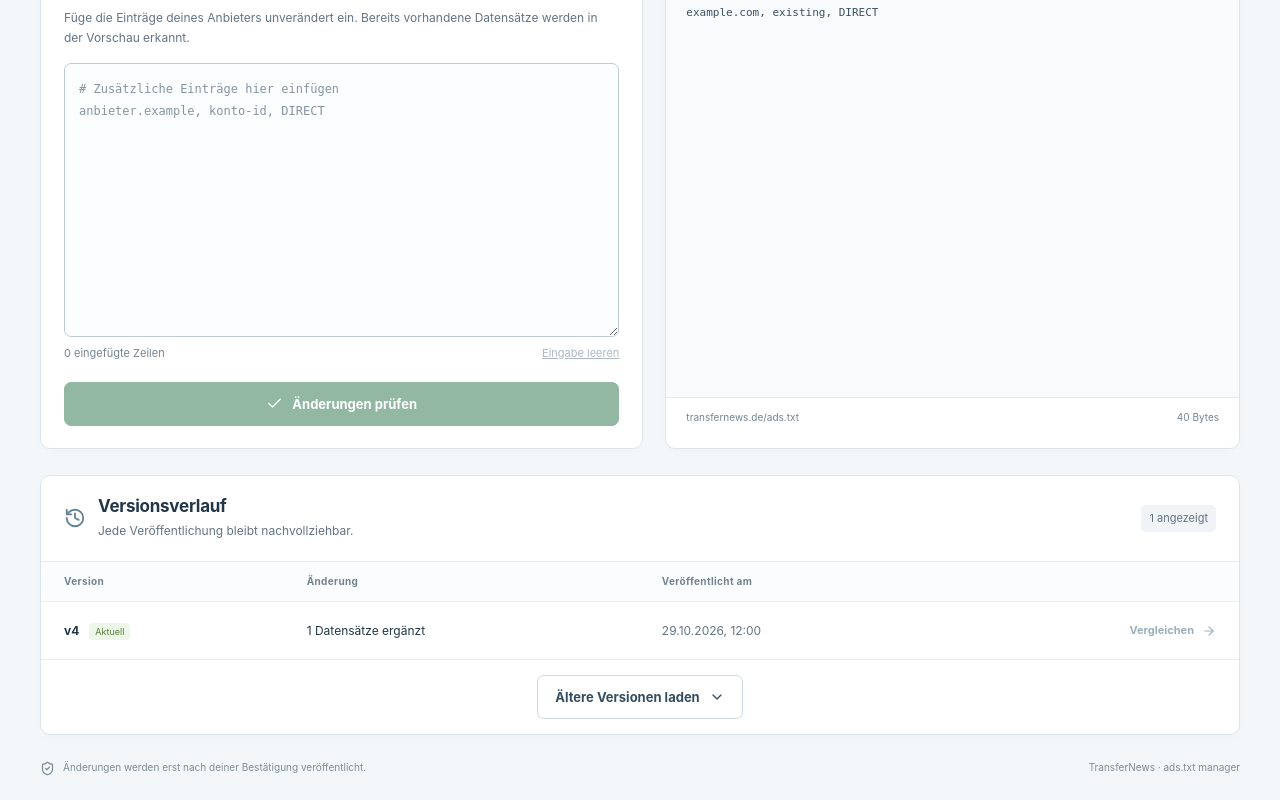
it: older versions remain accessible through the server history cursor
The image size is (1280, 800).
(page scrolled)
What coordinates should you click on to do the following:
click the button "Ältere Versionen laden"
I would click on:
 (640, 697)
Its box is left=537, top=675, right=743, bottom=719.
(page scrolled)
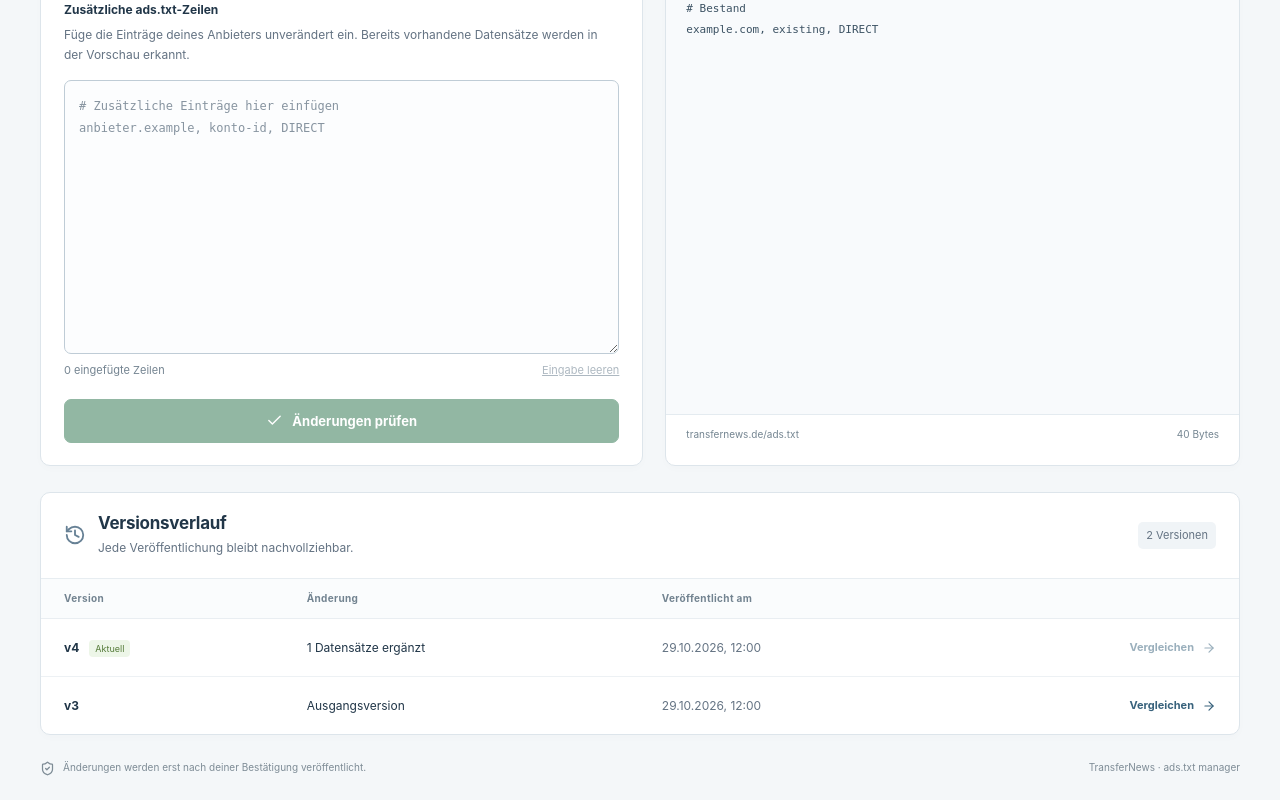
What coordinates should you click on to do the following:
click the button "Vergleichen" in the row of "Ausgangsversion"
I would click on:
 (1173, 706)
Its box is left=1130, top=692, right=1216, bottom=719.
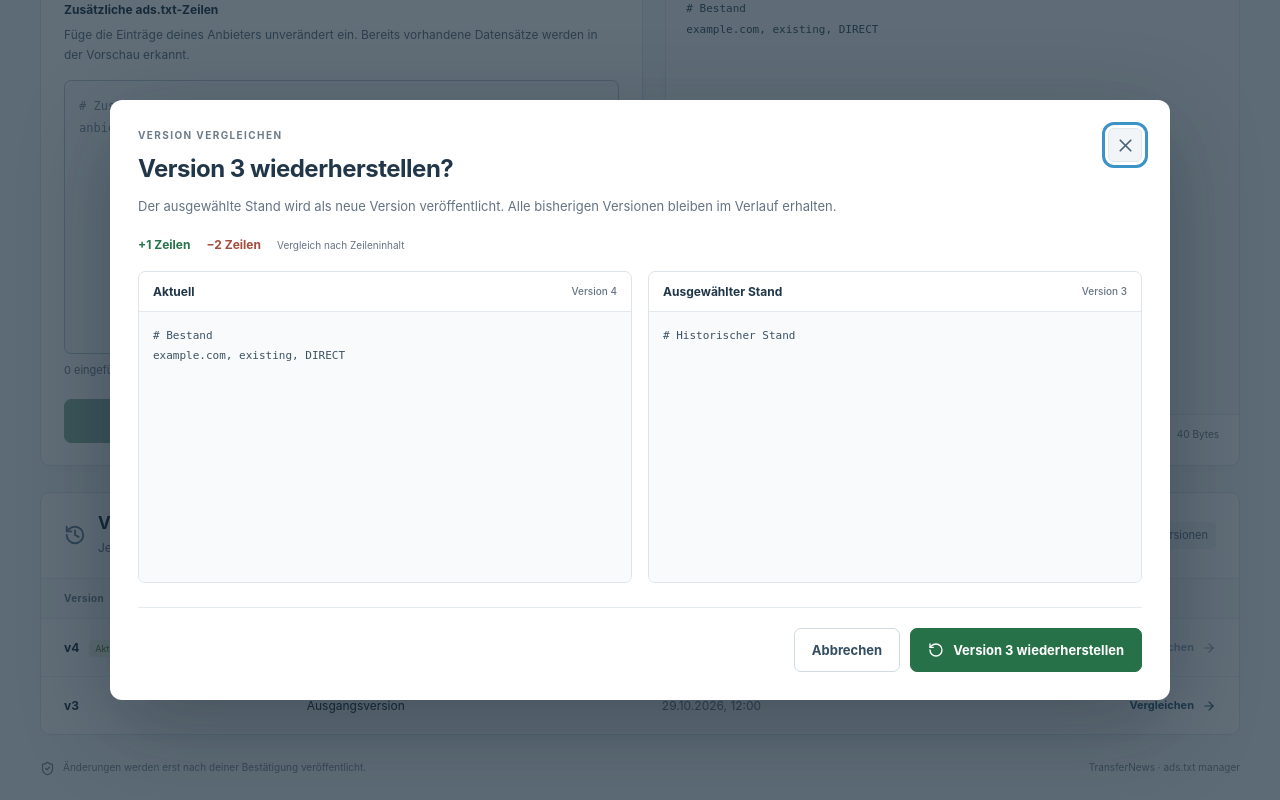
Expected: the dialog shows "Version 3 wiederherstellen", left=910, top=628, right=1142, bottom=672
